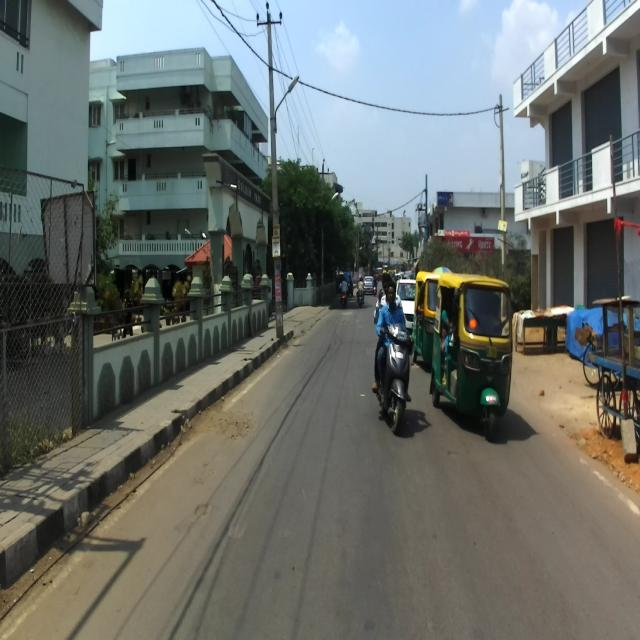autorickshaw: (428, 271, 516, 442)
scooter: (373, 322, 416, 432)
